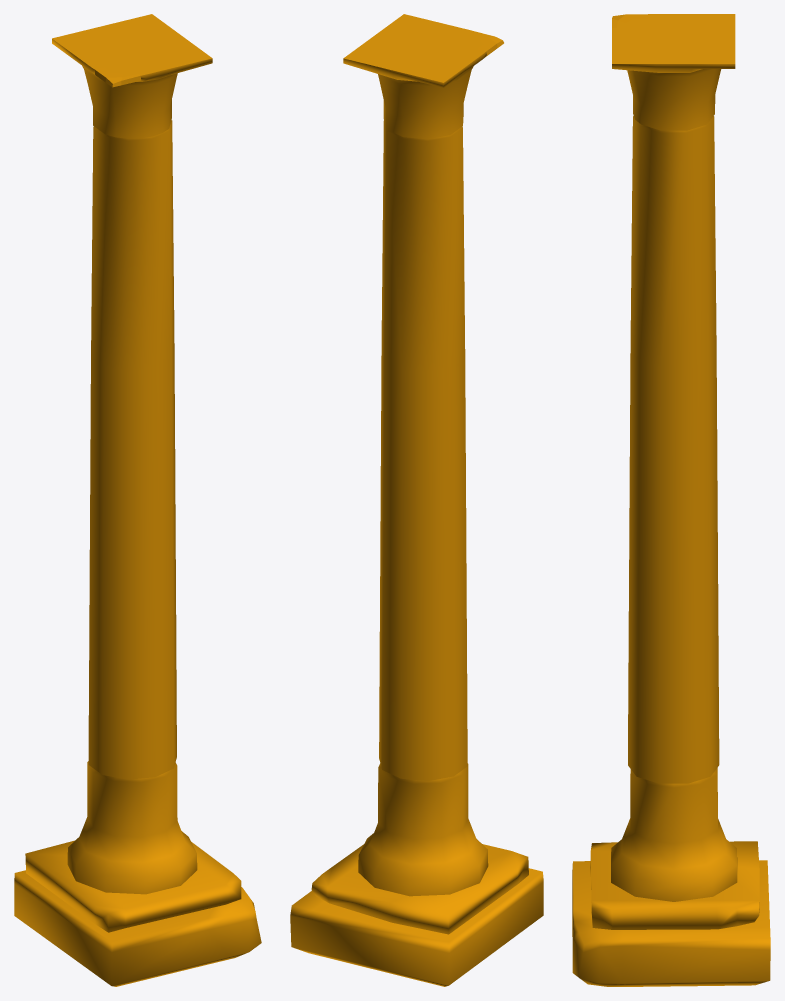
The model's file is Pillar_02_Lod1.fbx.
3 views of the same model, side by side, from view 1: azimuth 30°, elevation 25°; view 2: azimuth 150°, elevation 25°; view 3: azimuth 270°, elevation 25° (orthographic).
Visible parts, largest first — view 1: Pillar_02_Lod1; view 2: Pillar_02_Lod1; view 3: Pillar_02_Lod1.
Part boxes in pixels (left/top/right/bottom): Pillar_02_Lod1: left=14, top=14, right=261, bottom=986; Pillar_02_Lod1: left=290, top=14, right=543, bottom=986; Pillar_02_Lod1: left=572, top=14, right=770, bottom=986.
Size of the model in its own units: 563 by 3011 by 594.
